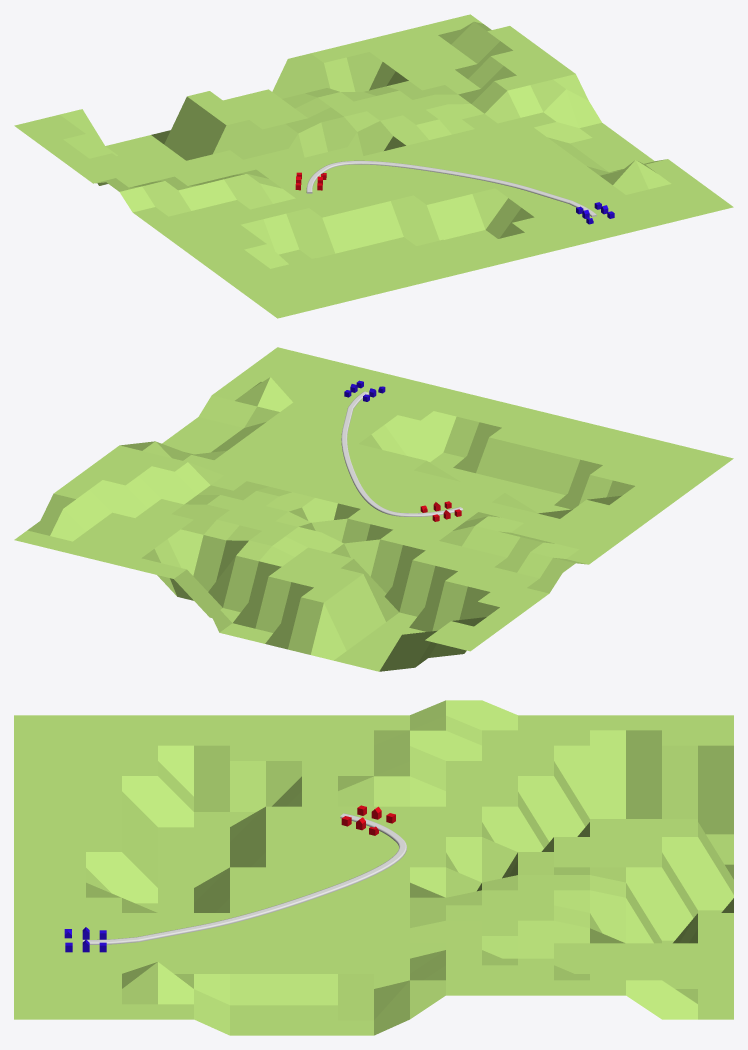
3 views of the same model, one above another, from view 1: azimuth 30°, elevation 25°; view 2: azimuth 150°, elevation 25°; view 3: azimuth 270°, elevation 25° (orthographic). The views are drawn at different scales.
Visible parts, largest first — view 1: World, Path; view 2: World, Path; view 3: World, Path.
Part boxes in pixels (x1,y1,x2,y2): World: (14, 14, 733, 318); Path: (306, 160, 596, 216); World: (14, 347, 733, 671); Path: (341, 391, 463, 516); World: (14, 700, 733, 1035); Path: (83, 813, 406, 944).
Bounding box in the file's own units: 20000 × 2621 × 20000.
